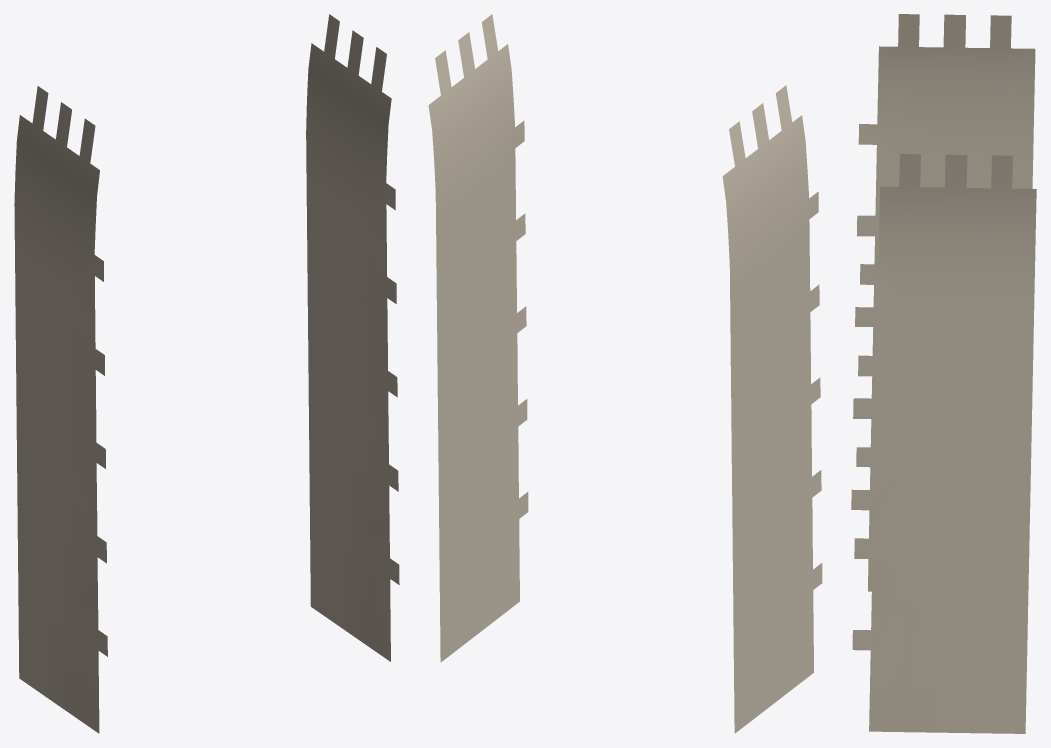
Rendered from cloth-base.glb.
3 views of the same model, side by side, from view 1: azimuth 30°, elevation 25°; view 2: azimuth 150°, elevation 25°; view 3: azimuth 270°, elevation 25° (orthographic). The views are drawn at different scales.
Bounding box in the file's own units: 0.7411 × 1.39 × 0.3979.
